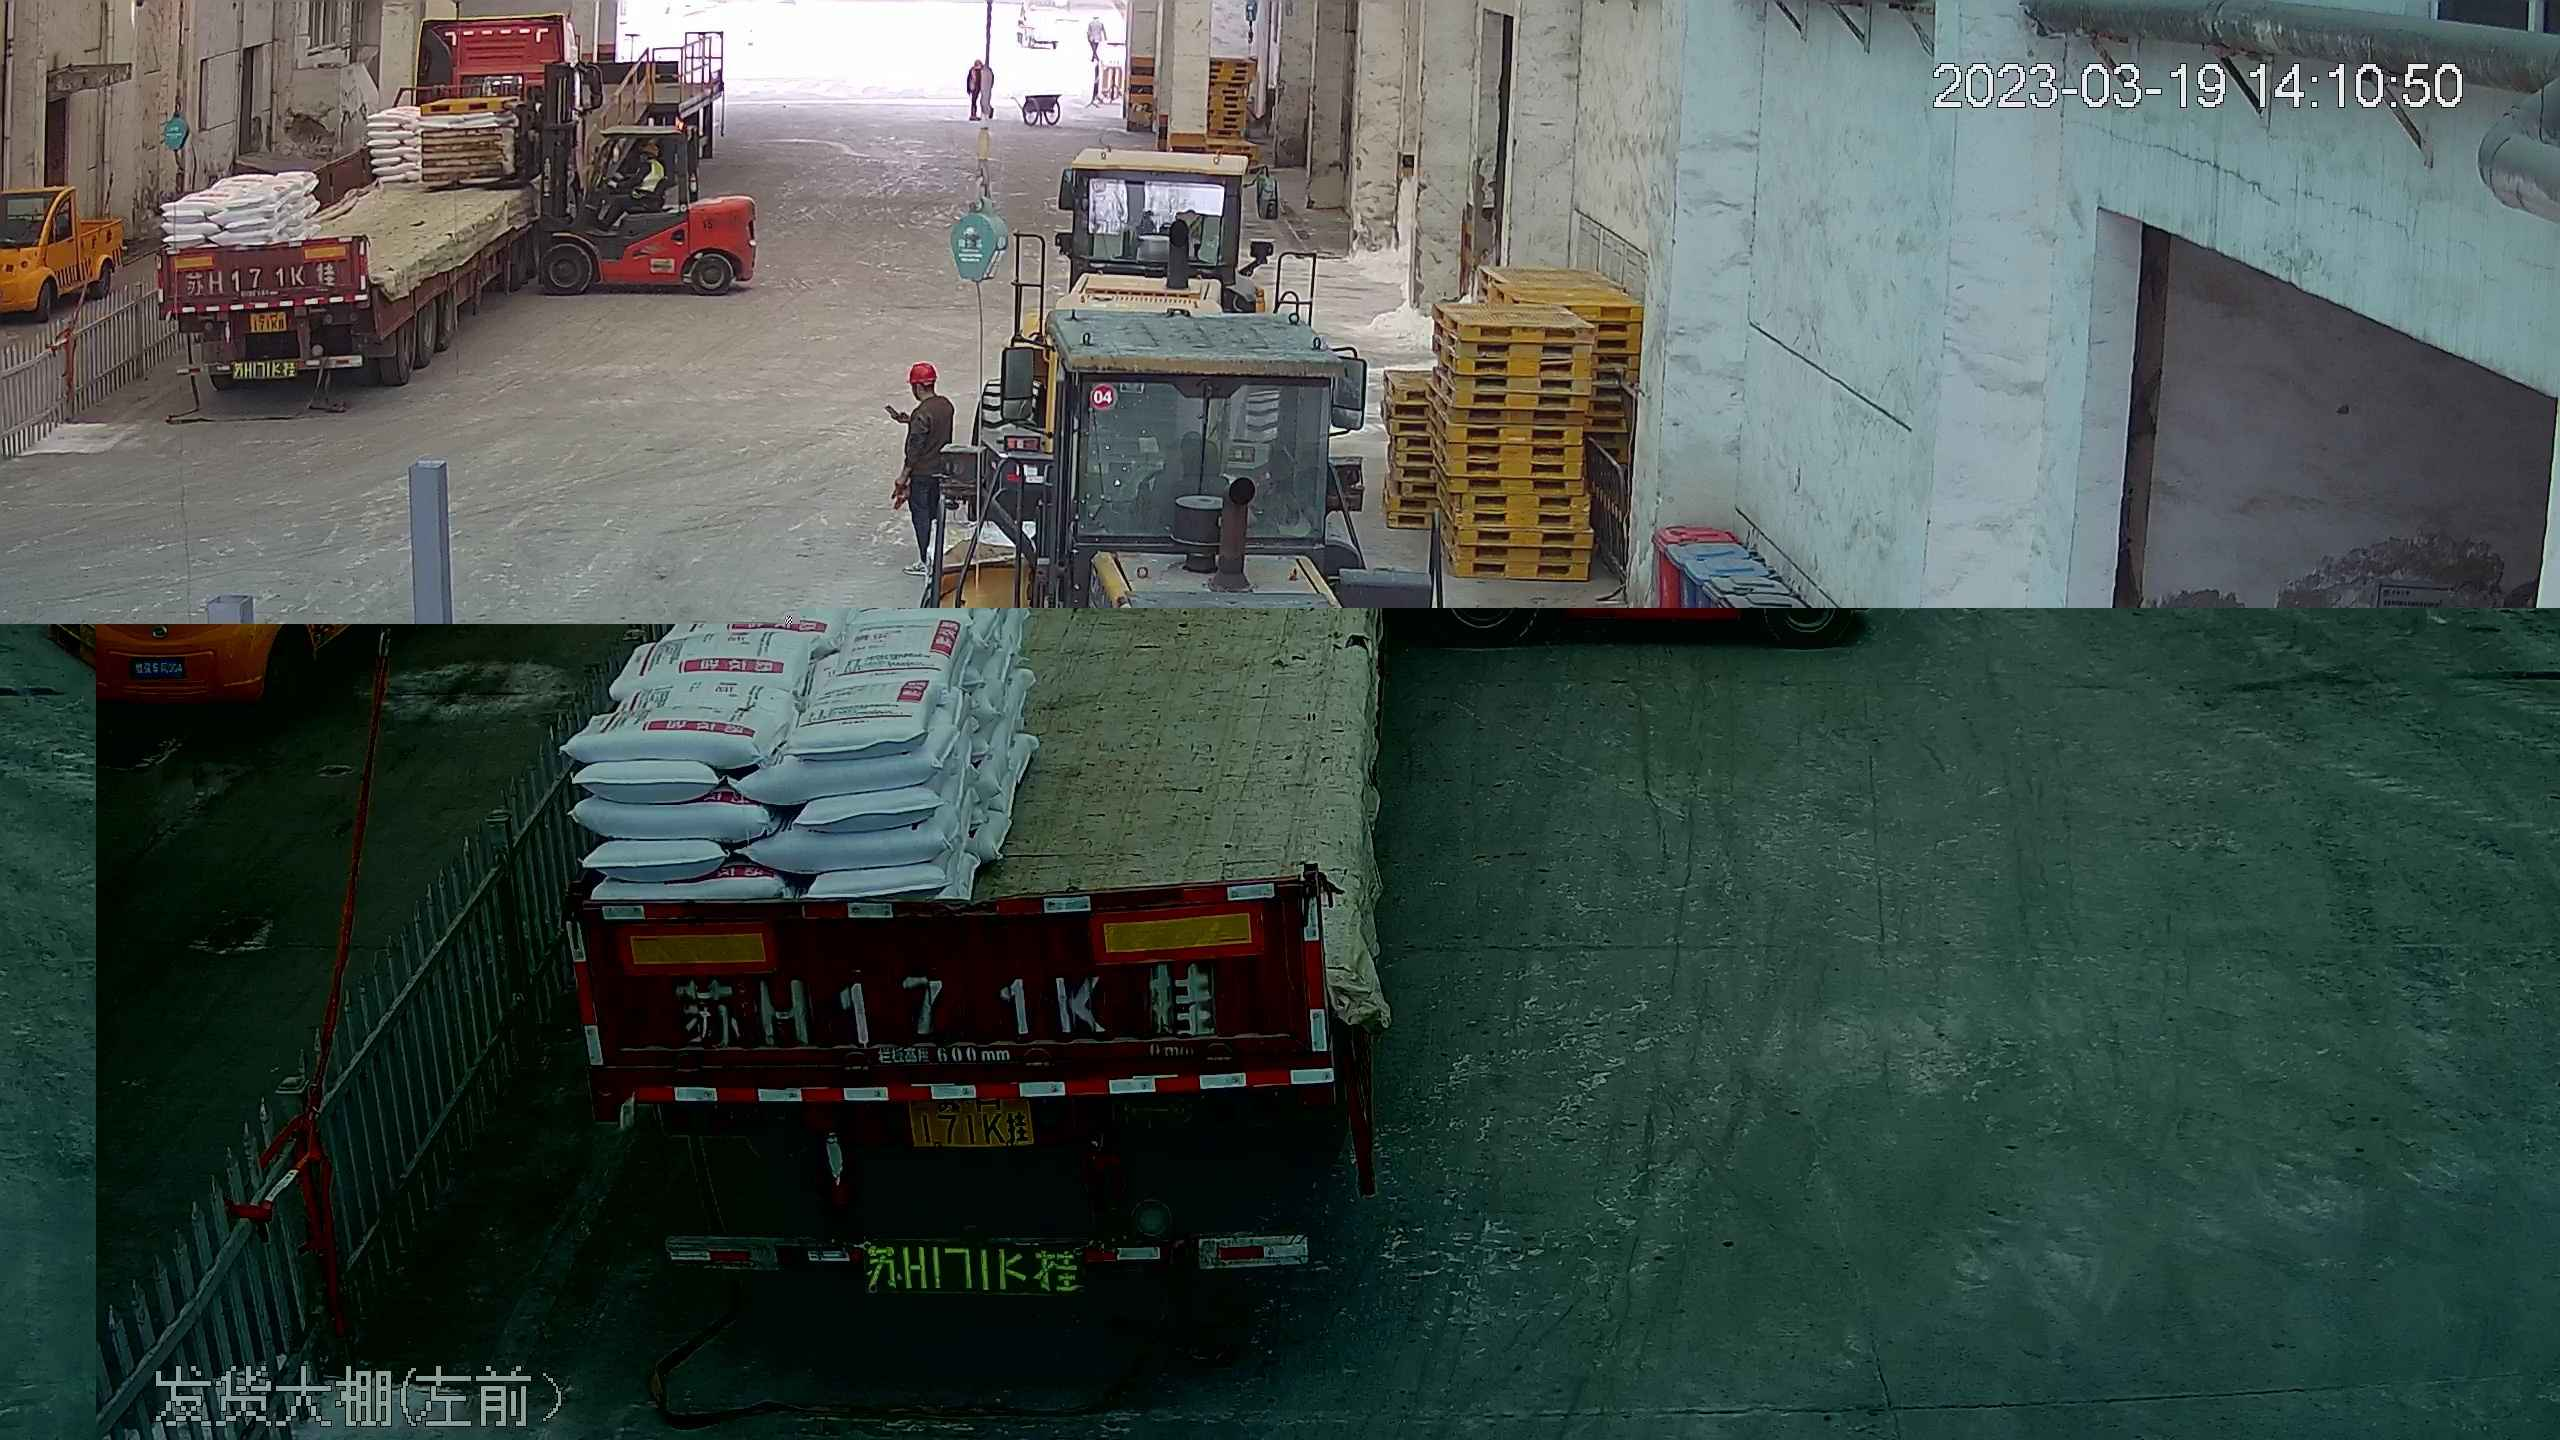head: (899, 356, 958, 430), (635, 143, 665, 180)
helmet: (907, 356, 941, 384), (641, 143, 659, 159)
people: (889, 352, 962, 588), (613, 137, 672, 214), (966, 50, 994, 121), (1081, 8, 1110, 60)
truck: (538, 623, 1426, 1308), (137, 11, 574, 390)
